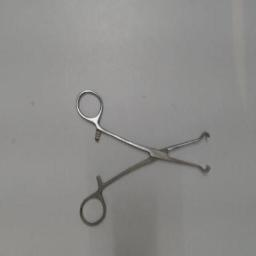Babcock Tissue Forceps: (75, 83, 213, 227)
